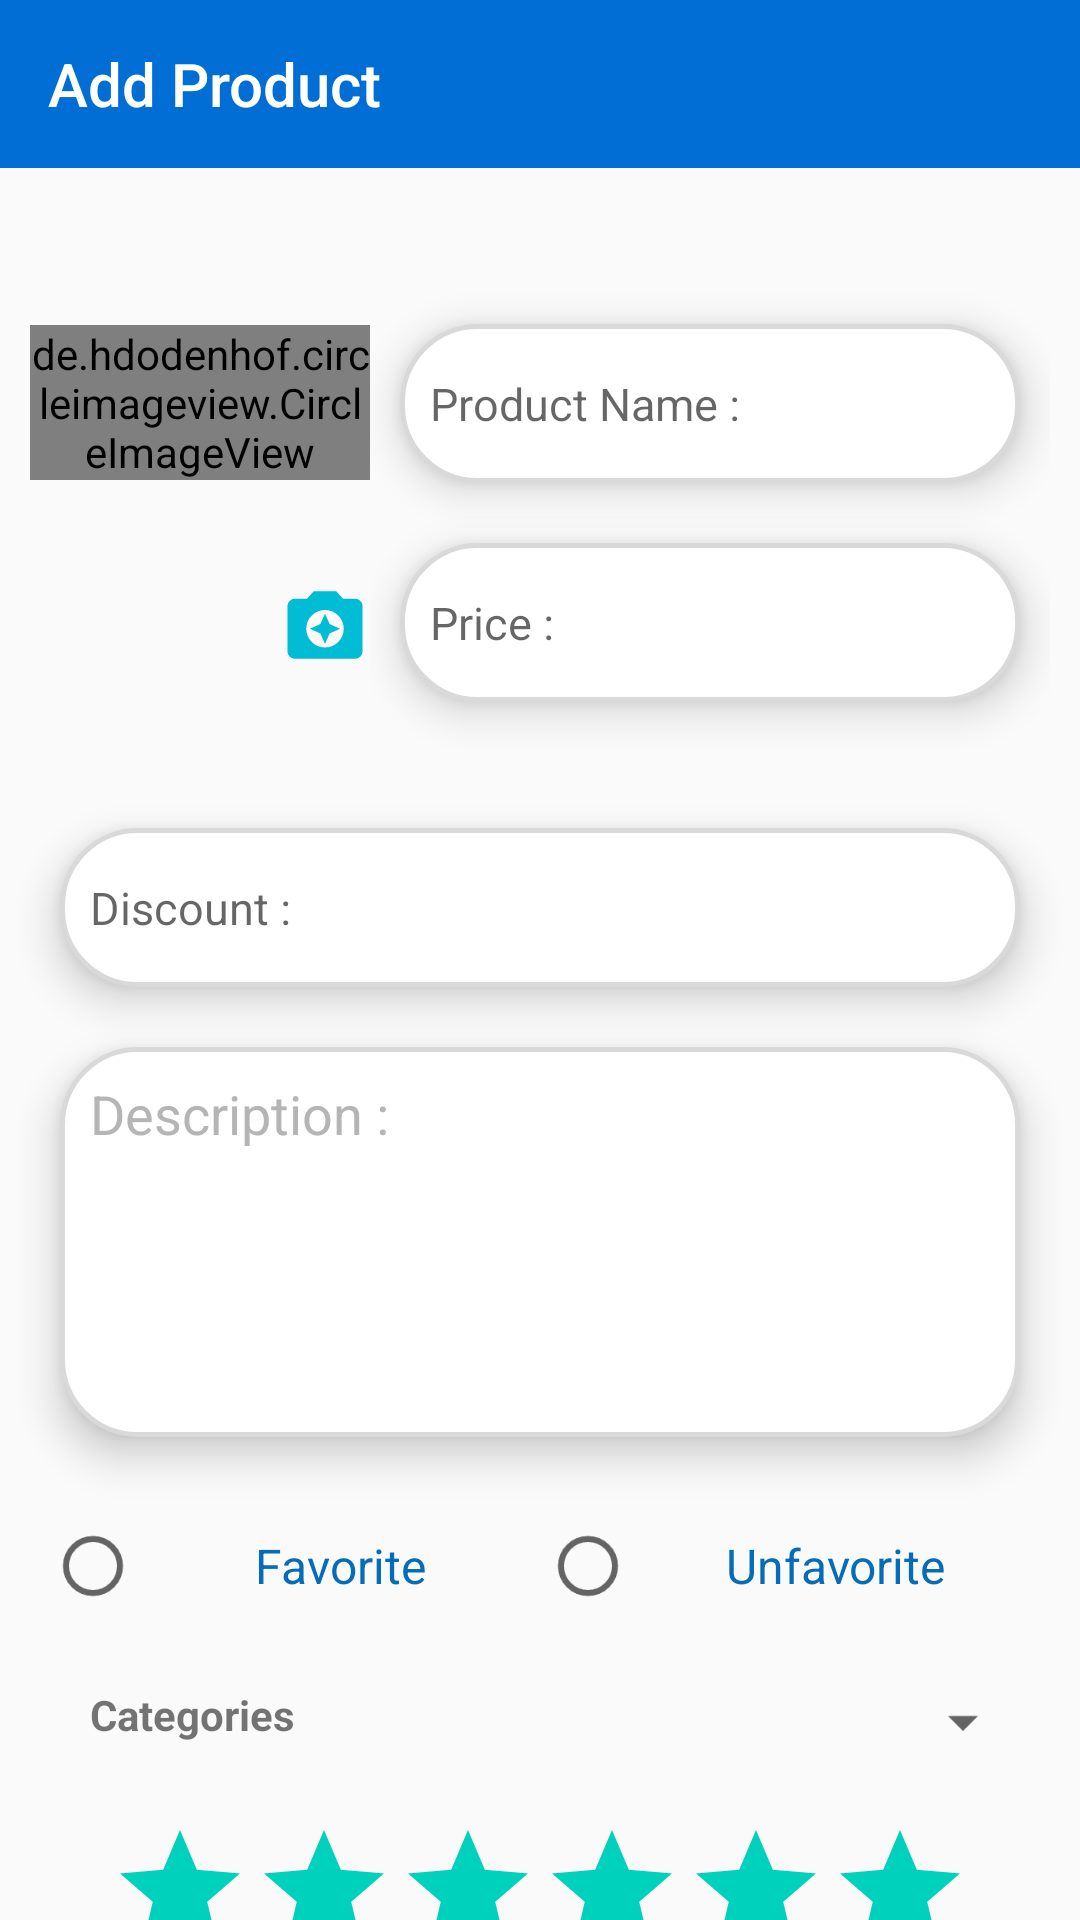

Where icons sit on this 1080 x 1920 app screen, as (x1, y1, x2, y2):
camera: (287, 591, 363, 659)
